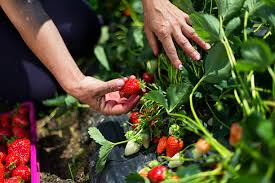ripe: (165, 131, 190, 158), (117, 77, 141, 98), (229, 118, 245, 147), (156, 131, 172, 154)
unripe: (122, 134, 145, 158), (145, 160, 170, 182)
